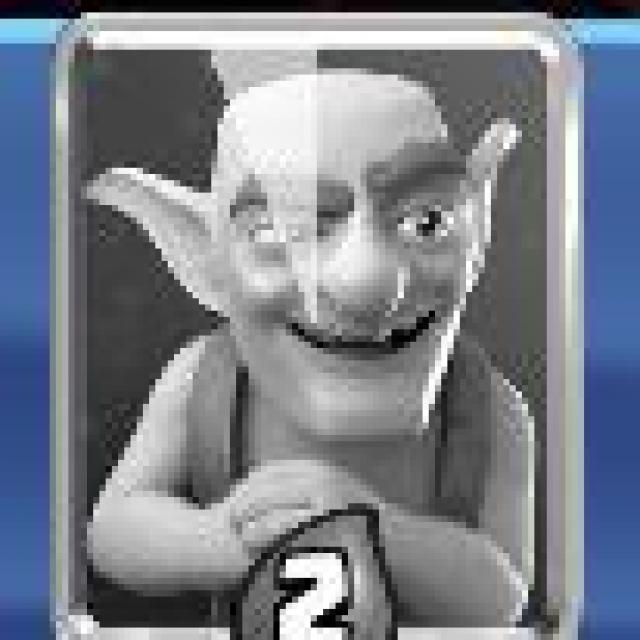Goblins: (50, 16, 582, 640)
